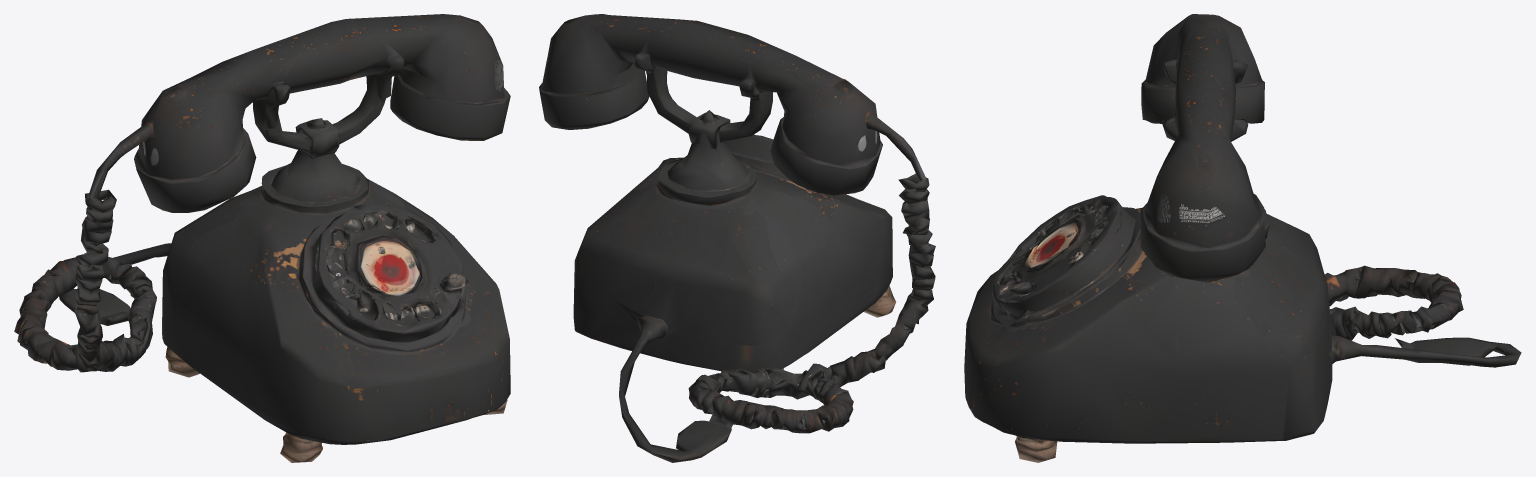
File: rotart_phone.glb
3 renders of one model, left to right at view 1: azimuth 30°, elevation 25°; view 2: azimuth 150°, elevation 25°; view 3: azimuth 270°, elevation 25°, orthographic. The views are drawn at different scales.
Visible parts, largest first — view 1: tripo_node_c86d2fd0-82dc-4189-8ebe-21d9c83e93cd; view 2: tripo_node_c86d2fd0-82dc-4189-8ebe-21d9c83e93cd; view 3: tripo_node_c86d2fd0-82dc-4189-8ebe-21d9c83e93cd.
Boxes of the visible parts, x1=… form: tripo_node_c86d2fd0-82dc-4189-8ebe-21d9c83e93cd: x1=14, y1=14, x2=510, y2=462; tripo_node_c86d2fd0-82dc-4189-8ebe-21d9c83e93cd: x1=539, y1=14, x2=935, y2=462; tripo_node_c86d2fd0-82dc-4189-8ebe-21d9c83e93cd: x1=964, y1=14, x2=1521, y2=462.
Size of the model in its own units: 0.9049 by 0.7069 by 0.9952.
1 material, 1 textured.
